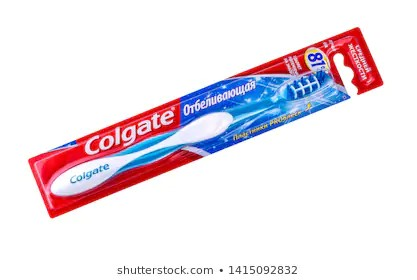toothbrush: (44, 62, 337, 209)
